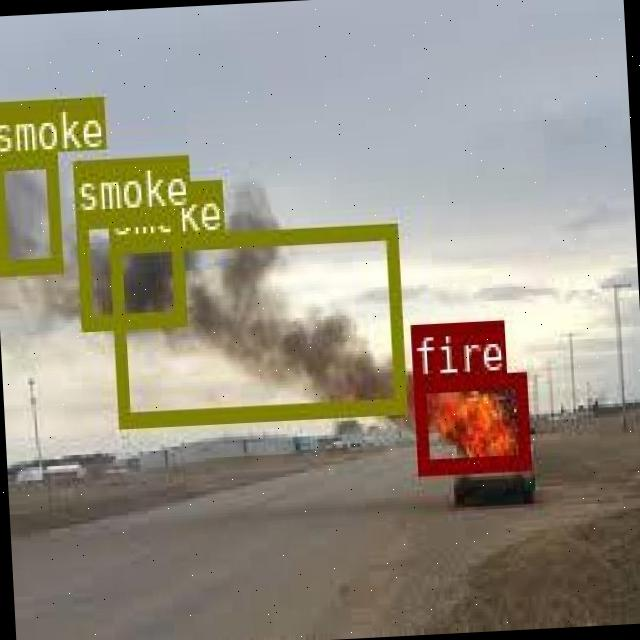fire: (411, 372, 529, 472)
smoke: (108, 221, 405, 426), (74, 206, 186, 328), (0, 151, 59, 273)
